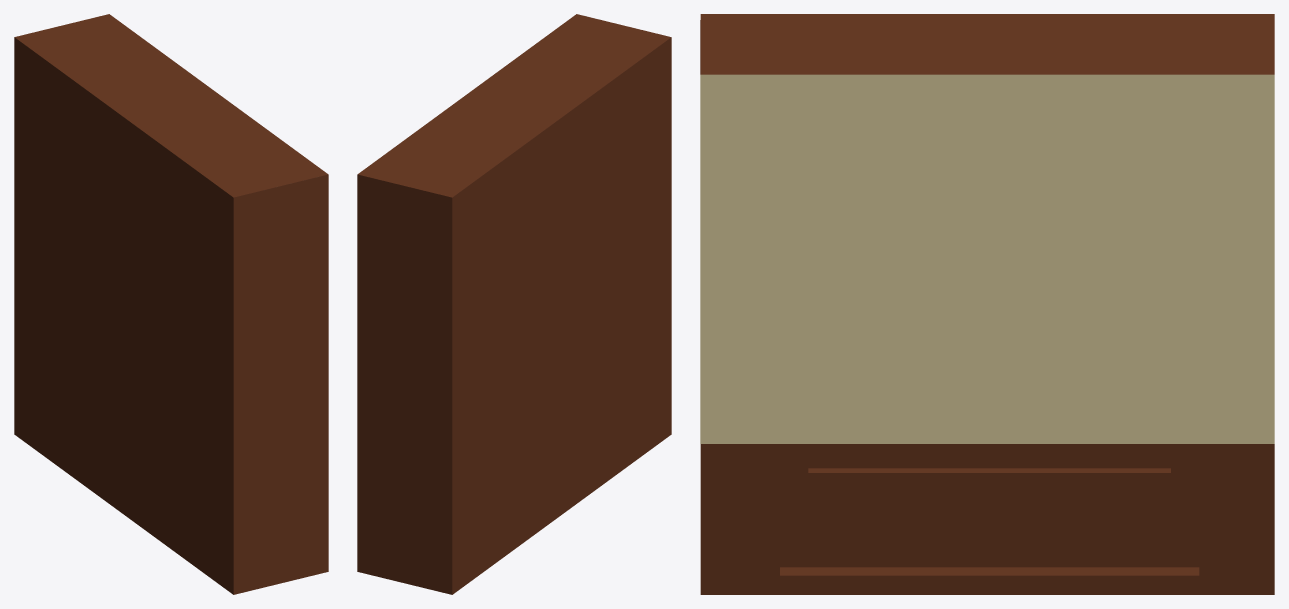
File: floor03.fbx
The picture shows the model from 3 angles, left to right: view 1: azimuth 30°, elevation 25°; view 2: azimuth 150°, elevation 25°; view 3: azimuth 270°, elevation 25°; orthographic projection. The views are drawn at different scales.
Parts seen in each view (by area): view 1: Cube.011; view 2: Cube.011; view 3: Cube.011.
Boxes of the visible parts, left/top/right/bottom form: Cube.011: left=14, top=14, right=328, bottom=594; Cube.011: left=357, top=14, right=671, bottom=594; Cube.011: left=700, top=14, right=1274, bottom=594.
Bounding box in the file's own units: 100 × 400 × 400.
